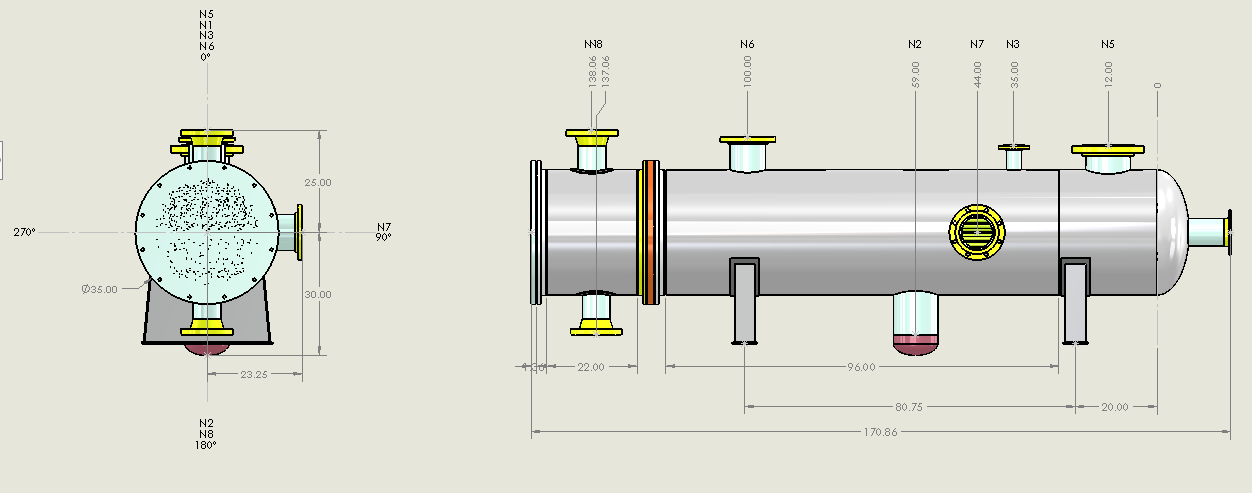nozzle: (924, 178, 1034, 277), (261, 194, 327, 293), (163, 296, 242, 365), (552, 111, 623, 183), (1058, 135, 1164, 181), (711, 131, 788, 189), (572, 285, 633, 355), (1186, 205, 1247, 264)
